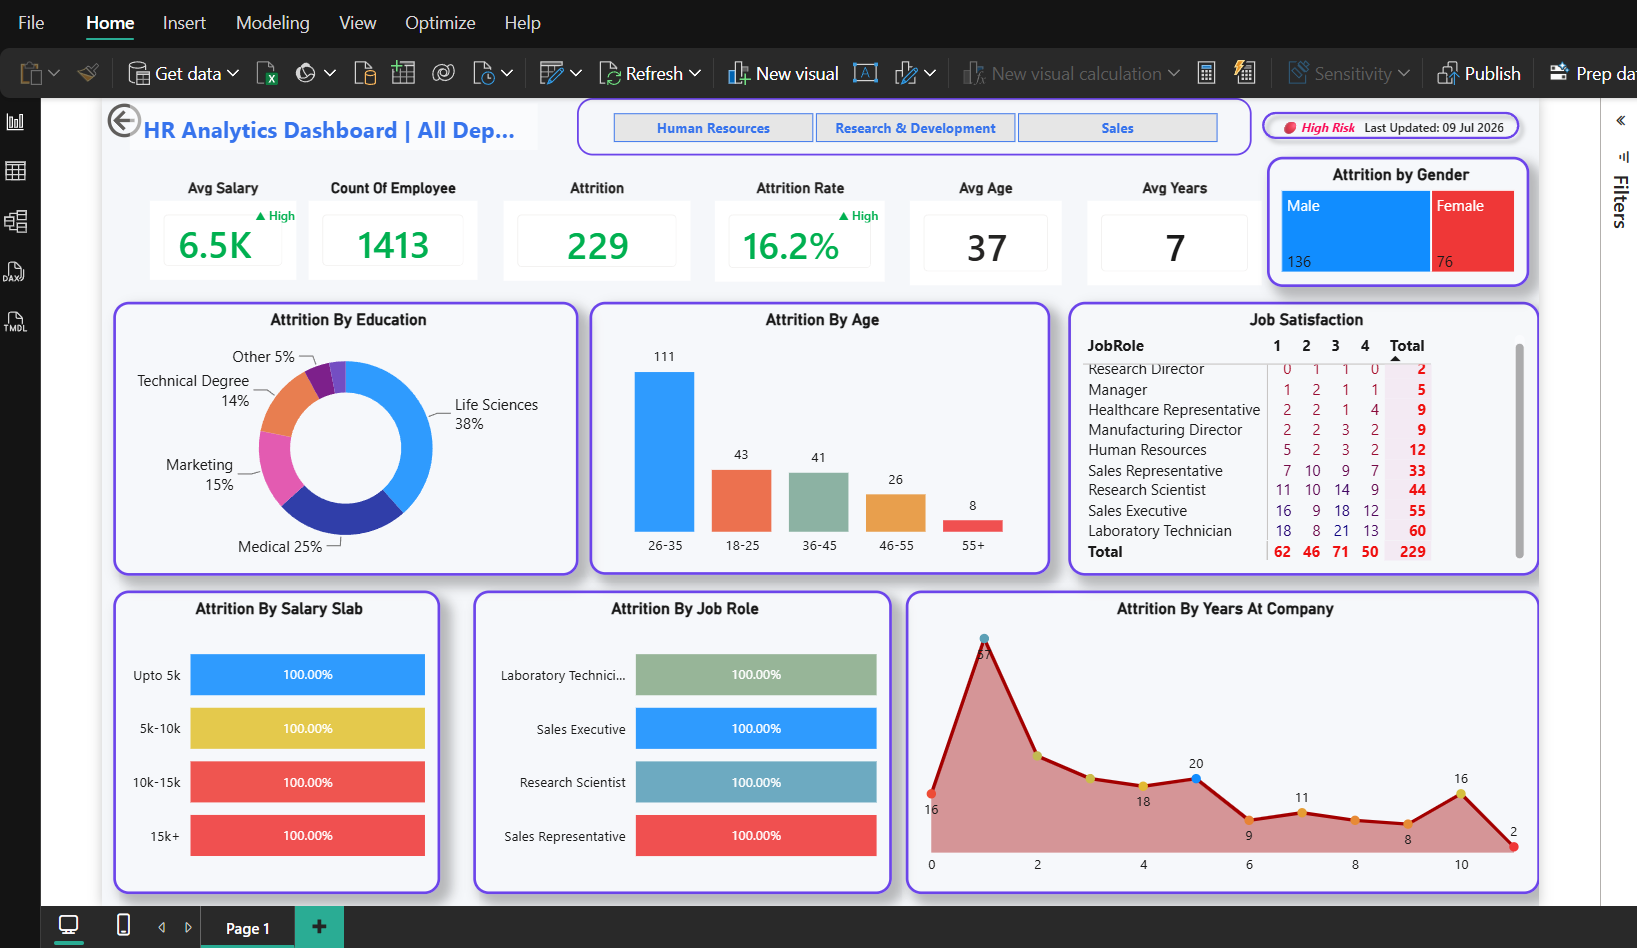

The page's visual inventory and layout, read from the dashboard file:
{"tool":"powerbi","page":{"name":"Page 1","canvas":[1280,720],"ordinal":0},"visuals":[{"type":"cardVisual","title":"Count Of Employee ","fields":{"Data":["CountNonNull(HR_Analytics.EmpID)"]},"box":[179.8,61.7,209.9,108.4],"z":0},{"type":"cardVisual","title":"Attrition","fields":{"Data":["Sum(HR_Analytics.AttritionCount)"]},"box":[358.1,63.1,182.5,107],"z":1000},{"type":"cardVisual","title":"Attrition Rate ","fields":{"Data":["HR_Analytics.AttritionRate"]},"box":[521.4,63.1,203.1,107],"z":2000},{"type":"cardVisual","title":"Avg Age","fields":{"Data":["Avg(HR_Analytics.Age)"]},"box":[709.4,63.1,135.8,107],"z":3000},{"type":"cardVisual","title":"Avg Salary","fields":{"Data":["Avg(HR_Analytics.MonthlyIncome)"]},"box":[15.1,63.1,175.6,107],"z":4000},{"type":"cardVisual","title":"Avg Years ","fields":{"Data":["Avg(HR_Analytics.YearsAtCompany)"]},"box":[832.9,63.1,199,107],"z":5000},{"type":"donutChart","title":"Attrition By Education","fields":{"Category":["HR_Analytics.EducationField"],"Y":["Sum(HR_Analytics.AttritionCount)"]},"box":[9.6,181.1,414.4,244.3],"z":6000},{"type":"pivotTable","title":"Job Satisfaction ","fields":{"Rows":["HR_Analytics.JobRole"],"Values":["Sum(HR_Analytics.AttritionCount)"],"Columns":["HR_Analytics.JobSatisfaction"]},"box":[860.4,181.1,419.9,244.3],"z":7000},{"type":"columnChart","title":"Attrition By Age","fields":{"Category":["HR_Analytics.AgeGroup"],"Y":["Sum(HR_Analytics.AttritionCount)"]},"box":[434.9,181.4,410.5,244.2],"z":8000},{"type":"hundredPercentStackedBarChart","title":"Attrition By Salary Slab","fields":{"Category":["HR_Analytics.SalarySlab"],"Y":["Sum(HR_Analytics.AttritionCount)"]},"box":[9.6,439.1,290.9,270.3],"z":9000},{"type":"hundredPercentStackedBarChart","title":"Attrition By Job Role","fields":{"Category":["HR_Analytics.JobRole"],"Y":["Sum(HR_Analytics.AttritionCount)"]},"box":[314.2,439.1,373.2,270.3],"z":10000},{"type":"areaChart","title":"Attrition By Years At Company","fields":{"Category":["HR_Analytics.YearsAtCompany"],"Y":["Sum(HR_Analytics.AttritionCount)"]},"box":[724.5,439.1,555.7,270.3],"z":11000},{"type":"treemap","title":"Attrition by Age","fields":{"Group":["HR_Analytics.Gender"],"Values":["Sum(HR_Analytics.AttritionCount)"]},"box":[1082.7,0,188,170.2],"z":12000},{"type":"slicer","fields":{"Values":["HR_Analytics.Department"]},"box":[399.3,0,671,48],"z":13000},{"type":"textbox","box":[9.6,0,380.1,48],"z":14000}]}

Visuals, with their boxes on the page's 1280x720 design canvas (x1, y1, x2, y2). These are canvas units, not pixel positions in the 1637x948 screenshot, which may show the page scaled, cropped or inside an application window:
"Count Of Employee " cardVisual: region(180, 62, 390, 170)
"Attrition" cardVisual: region(358, 63, 541, 170)
"Attrition Rate " cardVisual: region(521, 63, 724, 170)
"Avg Age" cardVisual: region(709, 63, 845, 170)
"Avg Salary" cardVisual: region(15, 63, 191, 170)
"Avg Years " cardVisual: region(833, 63, 1032, 170)
"Attrition By Education" donutChart: region(10, 181, 424, 425)
"Job Satisfaction " pivotTable: region(860, 181, 1280, 425)
"Attrition By Age" columnChart: region(435, 181, 845, 426)
"Attrition By Salary Slab" hundredPercentStackedBarChart: region(10, 439, 300, 709)
"Attrition By Job Role" hundredPercentStackedBarChart: region(314, 439, 687, 709)
"Attrition By Years At Company" areaChart: region(724, 439, 1280, 709)
"Attrition by Age" treemap: region(1083, 0, 1271, 170)
slicer - HR_Analytics.Department: region(399, 0, 1070, 48)
textbox: region(10, 0, 390, 48)
